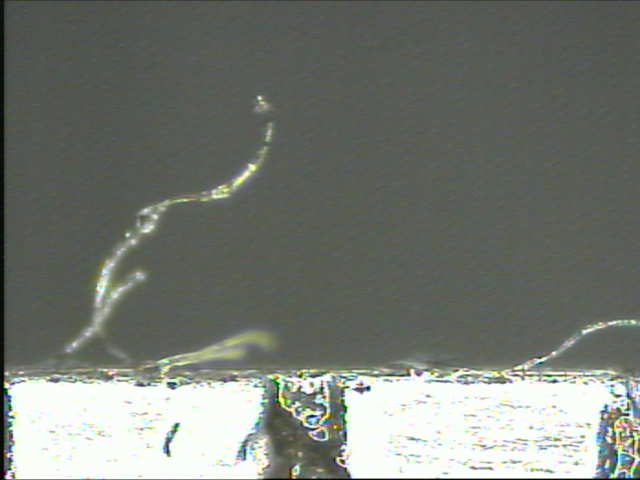line: (259, 376, 351, 477)
